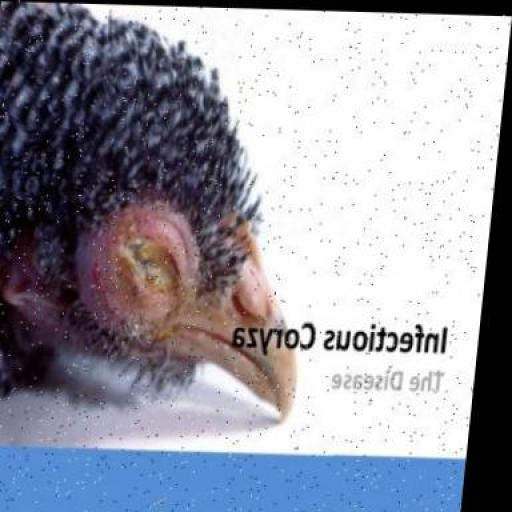disease: (93, 213, 192, 311)
